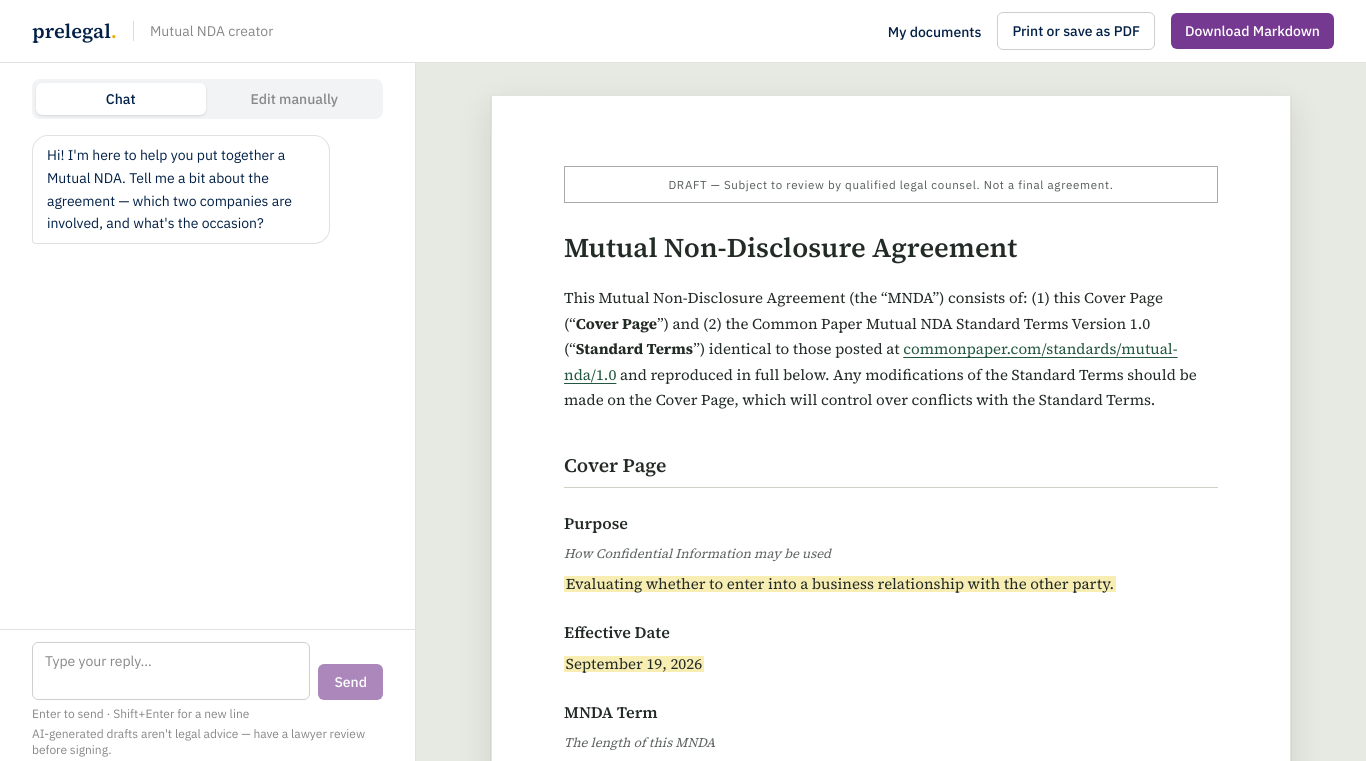
Test case: Home page › shows the chat by default and the form only on the manual tab
Click the tab "Edit manually". click: (294, 99)
box: [210,83,379,115]
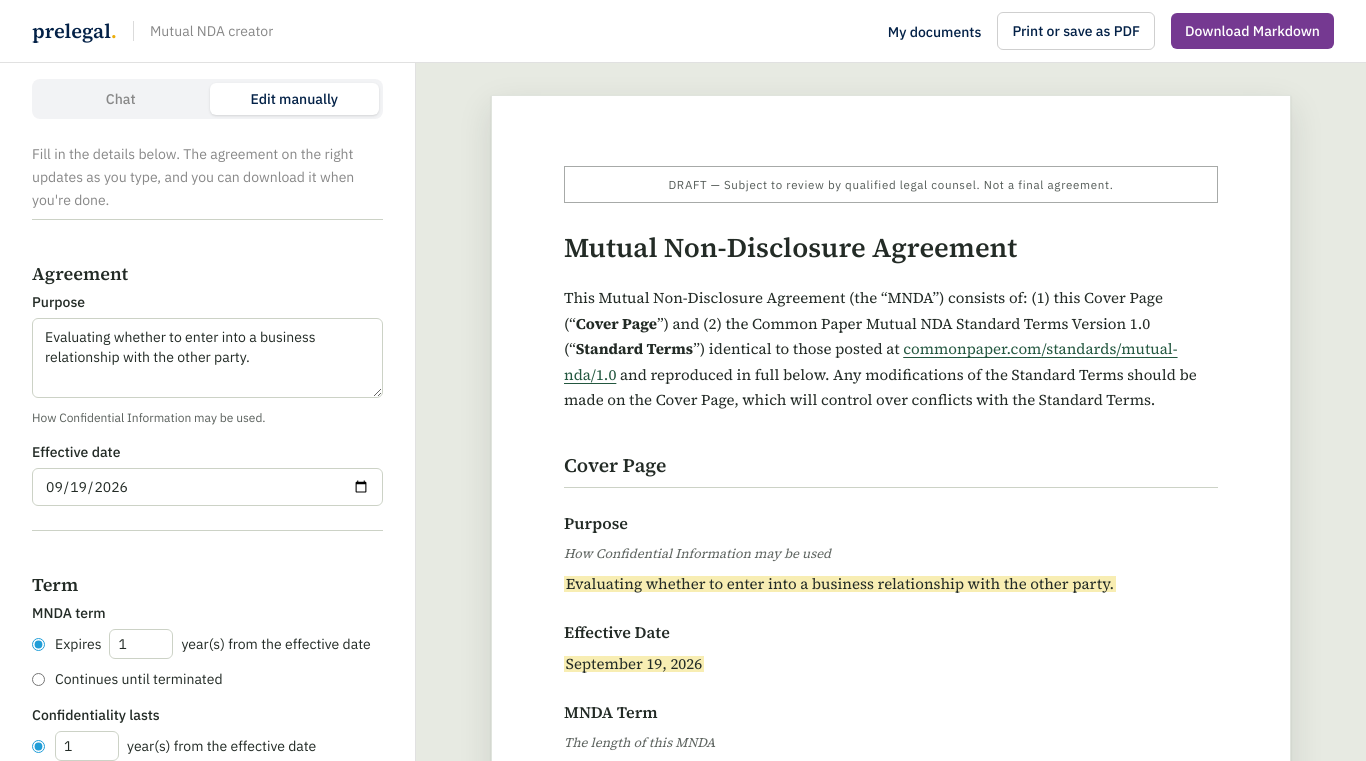
Now the date field labelled "Effective date" is shown, box [32,468,383,506]
